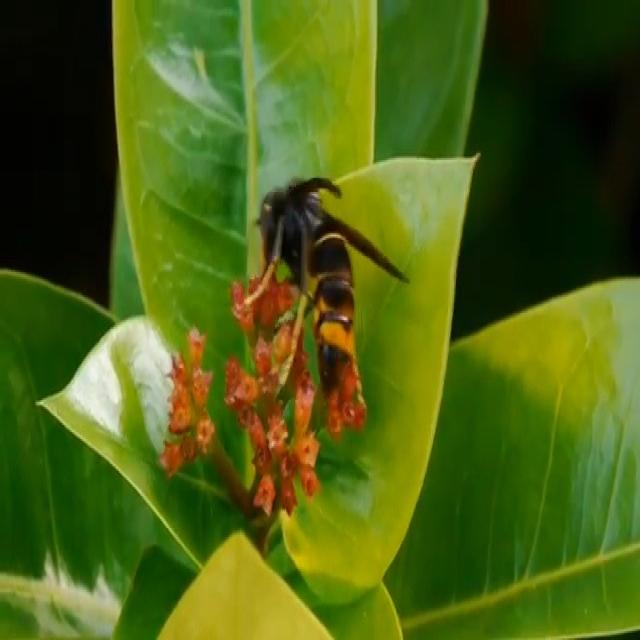Hornets: (244, 176, 410, 408)
